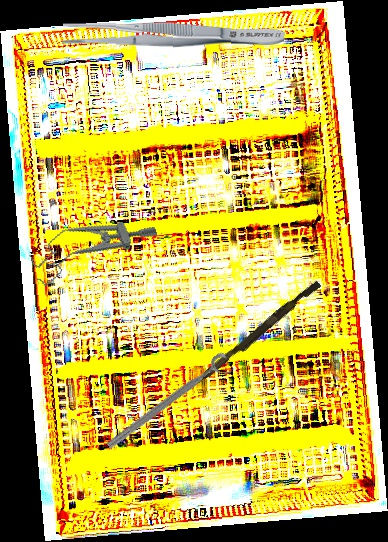Dressing Forceps: (62, 18, 285, 52)
Fixation Ring: (103, 350, 237, 460)
Pusher: (185, 277, 322, 397)
Speculum: (23, 200, 162, 289)
